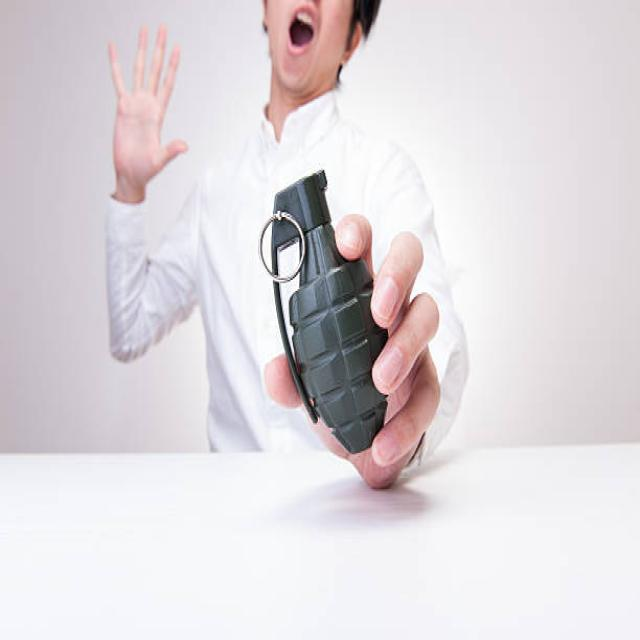grenade: (259, 167, 392, 459)
